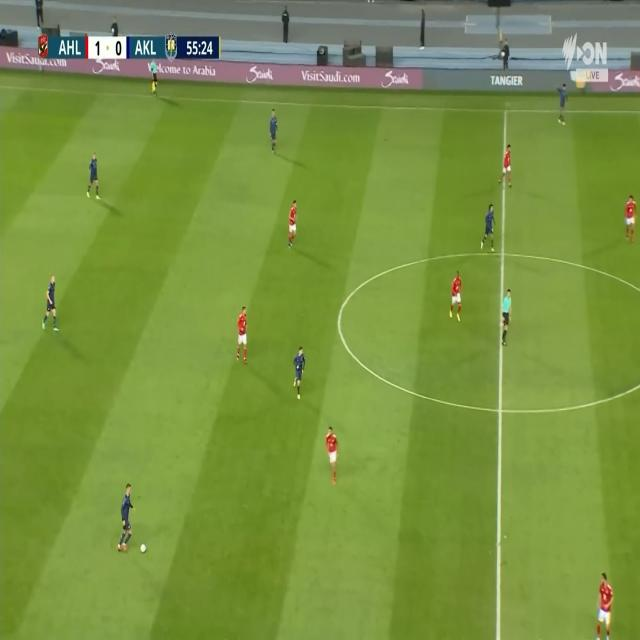Ball: (140, 542, 145, 554)
Player: (117, 481, 136, 552), (595, 570, 613, 640), (41, 274, 60, 334), (623, 189, 639, 244), (325, 424, 339, 485), (481, 199, 496, 253), (86, 152, 102, 202), (292, 343, 306, 400), (449, 268, 464, 321), (235, 304, 247, 367), (554, 82, 568, 130), (269, 108, 280, 154), (288, 199, 298, 247), (501, 143, 511, 190)
Ref: (501, 289, 512, 347), (149, 57, 159, 100)
